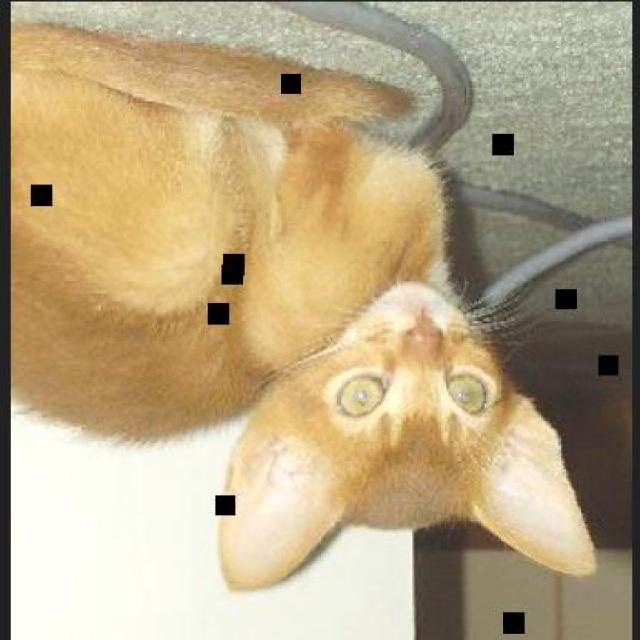unauthorized: (9, 12, 597, 590), (215, 275, 597, 591)
